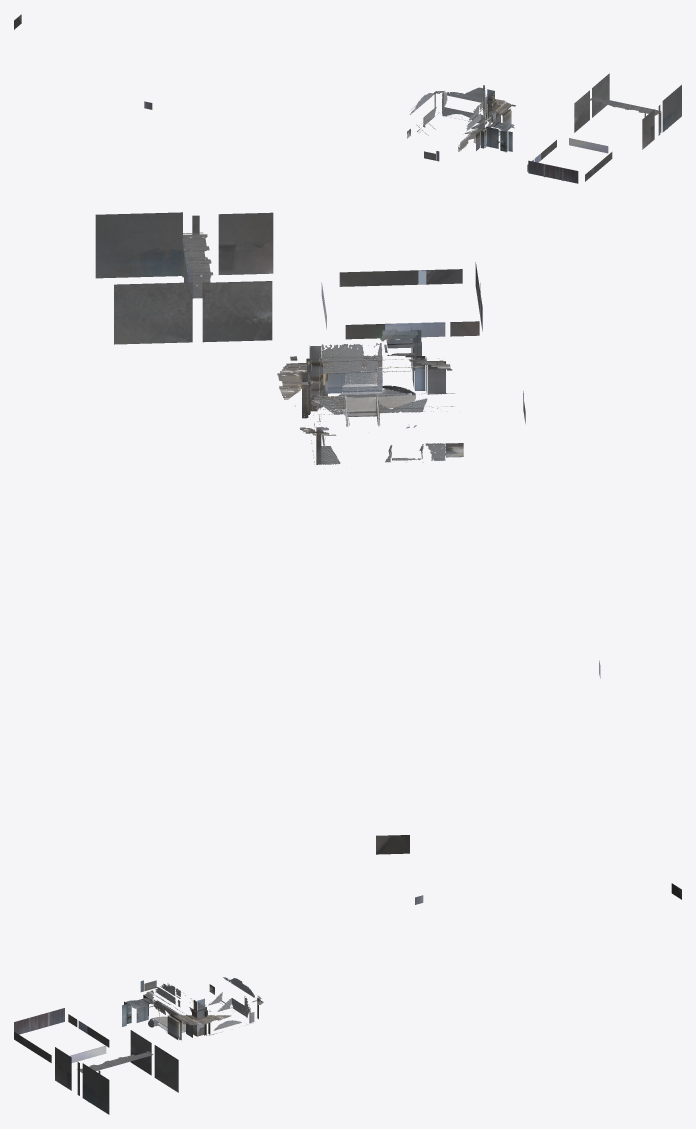
The picture shows the model from 3 angles, top to bottom: view 1: azimuth 30°, elevation 25°; view 2: azimuth 150°, elevation 25°; view 3: azimuth 270°, elevation 25°; orthographic projection. The views are drawn at different scales.
Visible parts, largest first — view 1: structure_p0, stairwell_measured; view 2: structure_p0, stairwell_measured; view 3: structure_p0, stairwell_measured.
Boxes of the visible parts, x1,y1,x2,y2 form: structure_p0: [14, 14, 681, 183]; stairwell_measured: [409, 85, 503, 151]; structure_p0: [95, 212, 600, 854]; stairwell_measured: [295, 343, 454, 464]; structure_p0: [14, 883, 681, 1114]; stairwell_measured: [153, 977, 257, 1035].
Bounding box in the file's own units: 63.3 × 5.88 × 80.63.
1 material, 1 textured.
